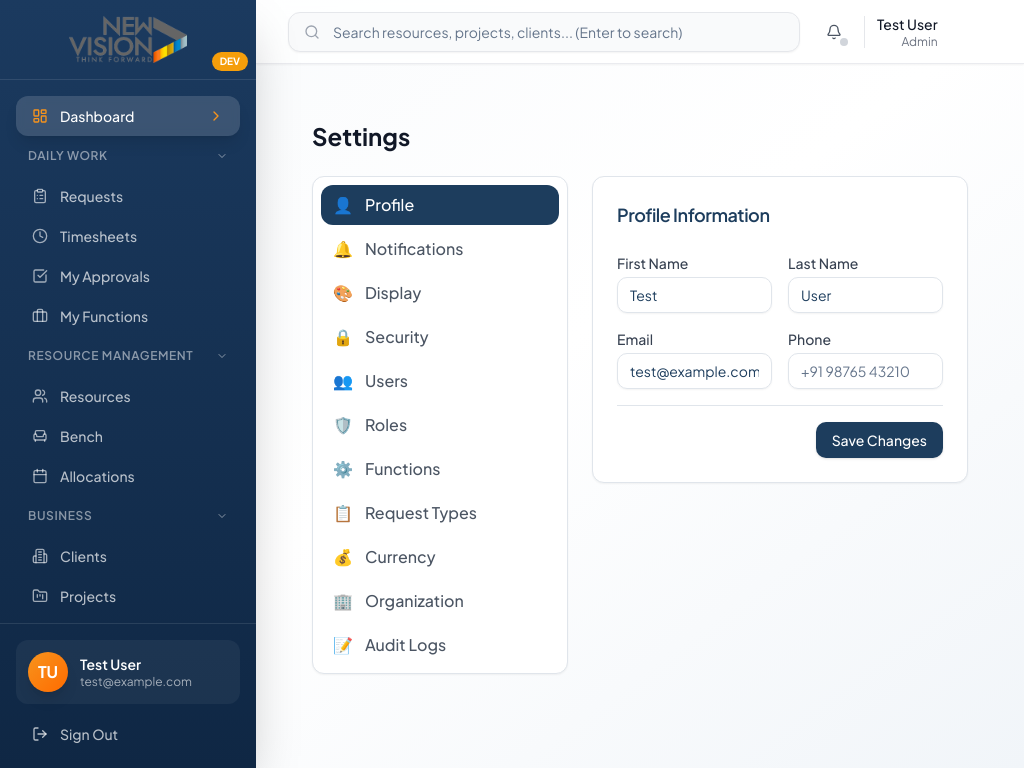
Test: SettingsPage › Tab Switching › switches to Notifications tab when clicked
This screenshot has width=1024, height=768.
Step 1. Click the button "🔔 Notifications" → coordinates (440, 249), box [321, 229, 559, 269]
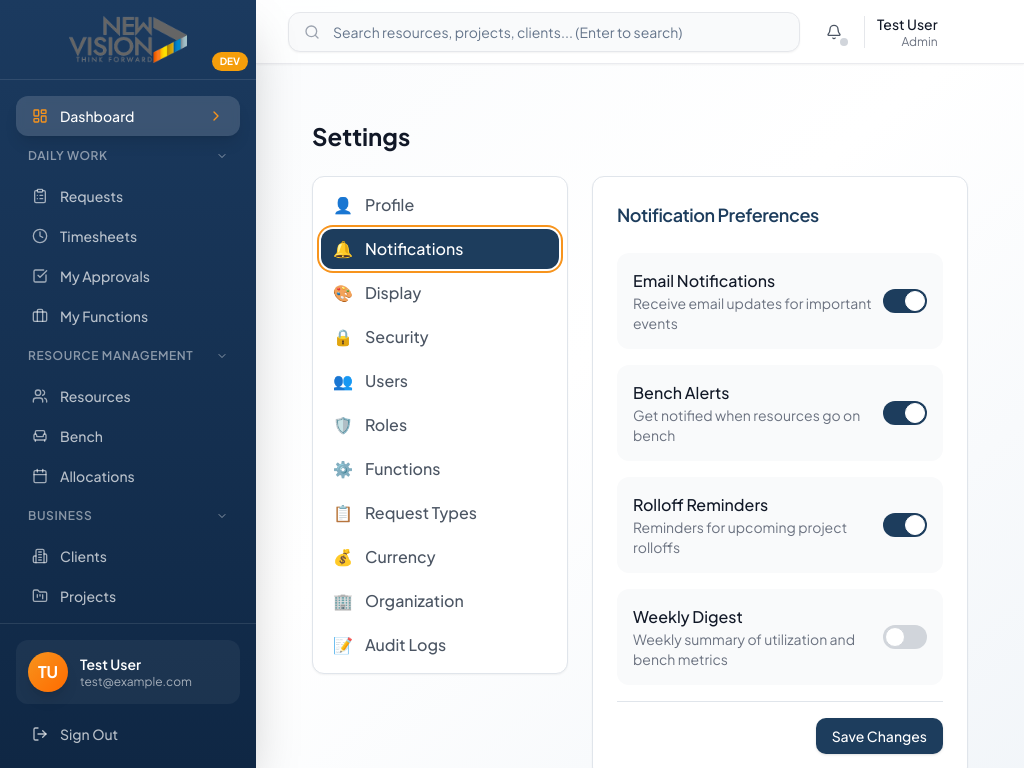
expect the text "Email Notifications" is shown: met, box [633, 270, 775, 291]
